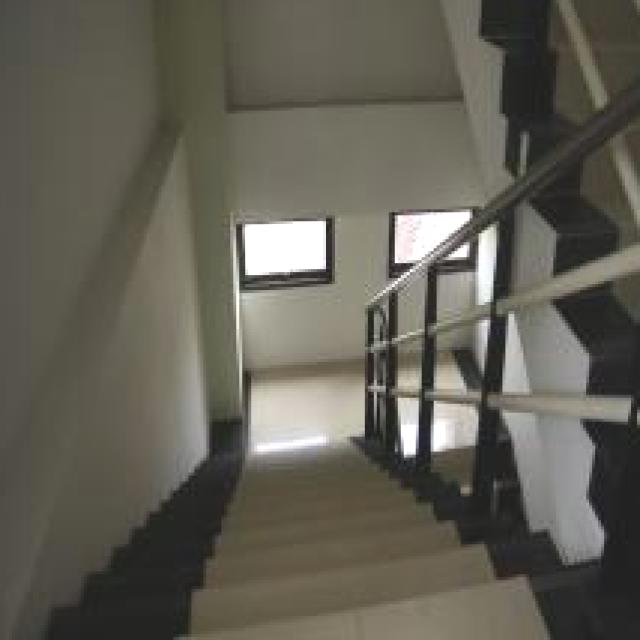downstair: (201, 485, 429, 640)
